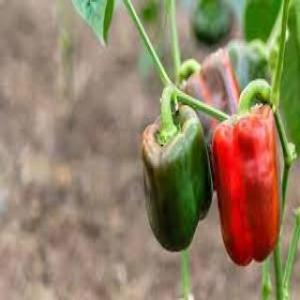bell_pepper: (141, 102, 215, 255)
